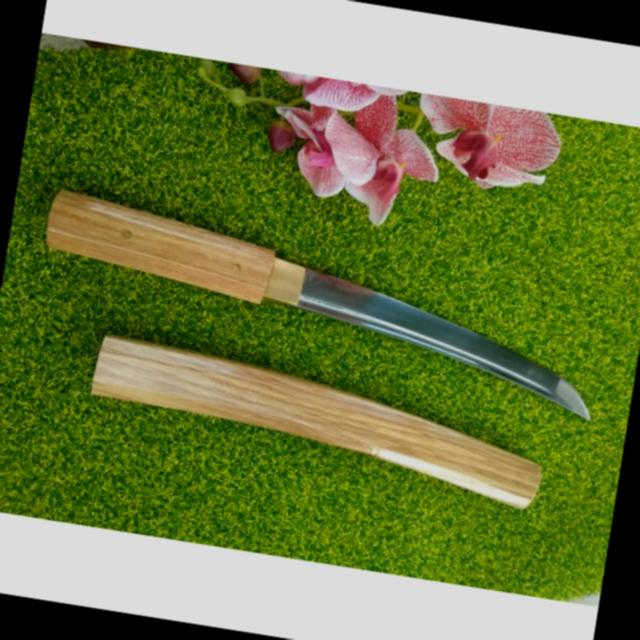short sword: (2, 168, 624, 546)
